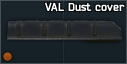AS VAL dust cover: (0, 0, 127, 64)
